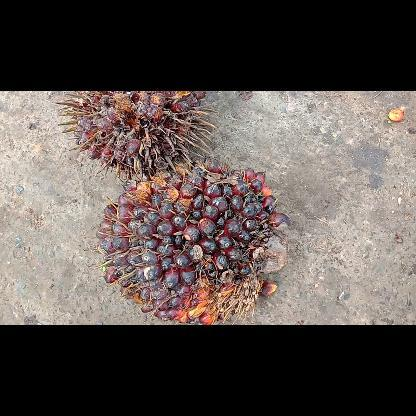Kurang masak: (90, 158, 290, 324)
TBS masak: (56, 90, 216, 178)
